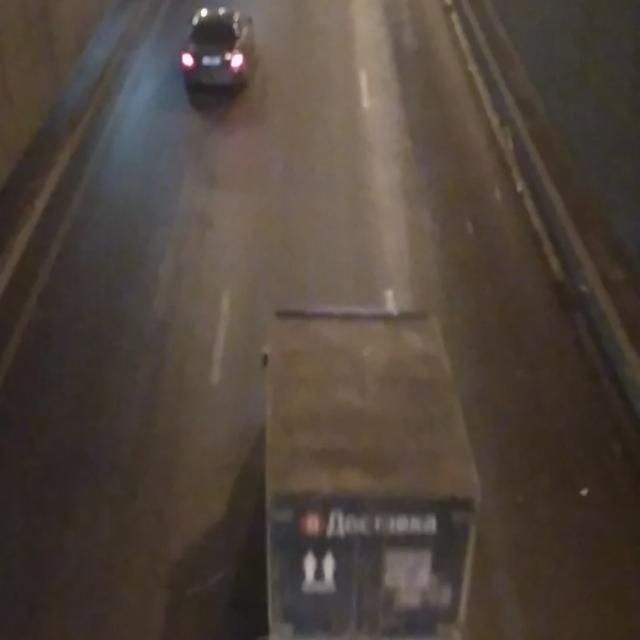car: (178, 7, 256, 92)
truck: (266, 311, 480, 639)
